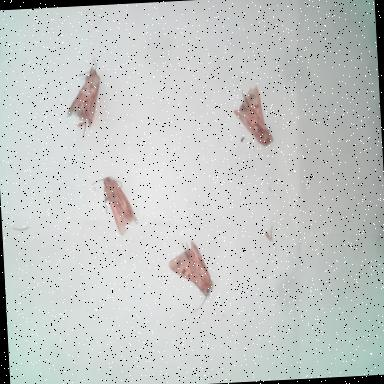abw: (164, 234, 218, 318), (60, 52, 109, 142), (83, 168, 144, 240), (231, 80, 277, 152)
